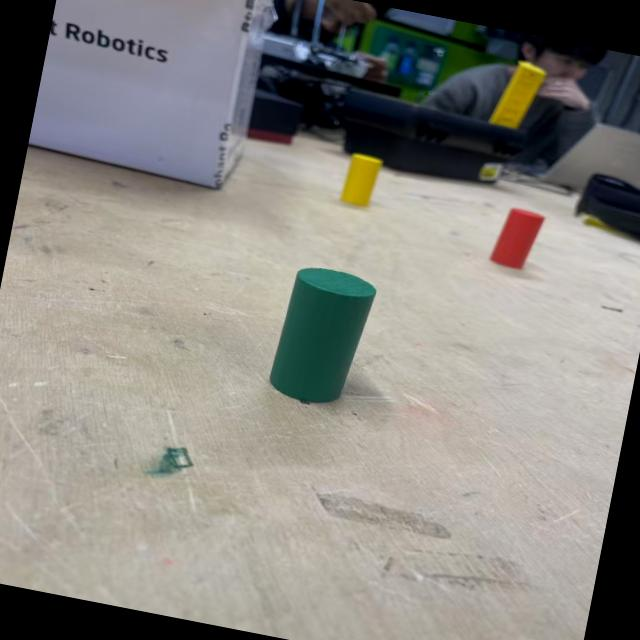green_cylinder: (266, 260, 381, 412)
